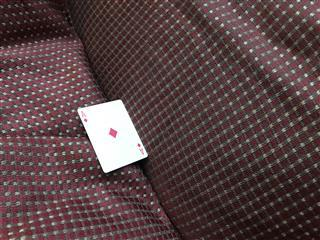AceOfDiamonds: (77, 98, 148, 172)
